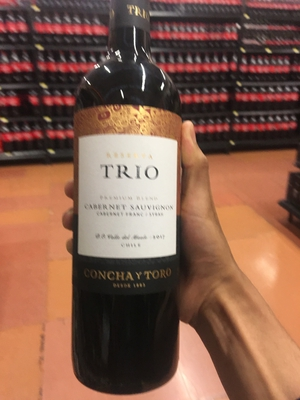trio cabernet sauvignon: (71, 16, 198, 396)
